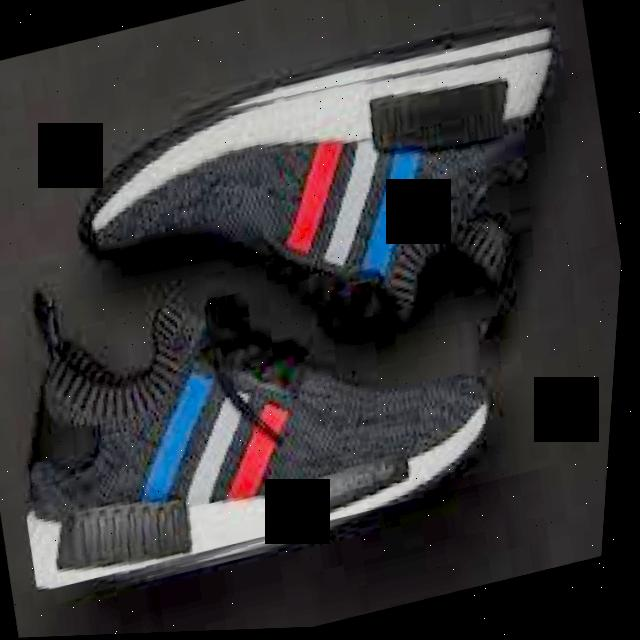shoe: (0, 20, 638, 595), (0, 177, 545, 611)
